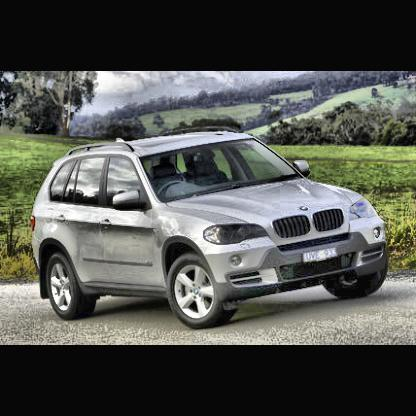BMW X5 SUV 2007: (22, 115, 403, 333)
